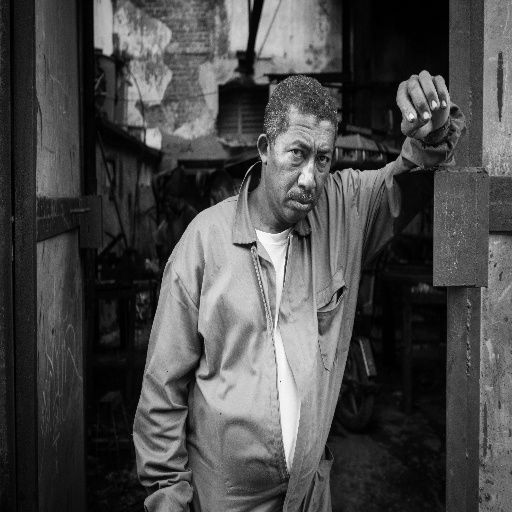hand: (386, 65, 465, 164)
